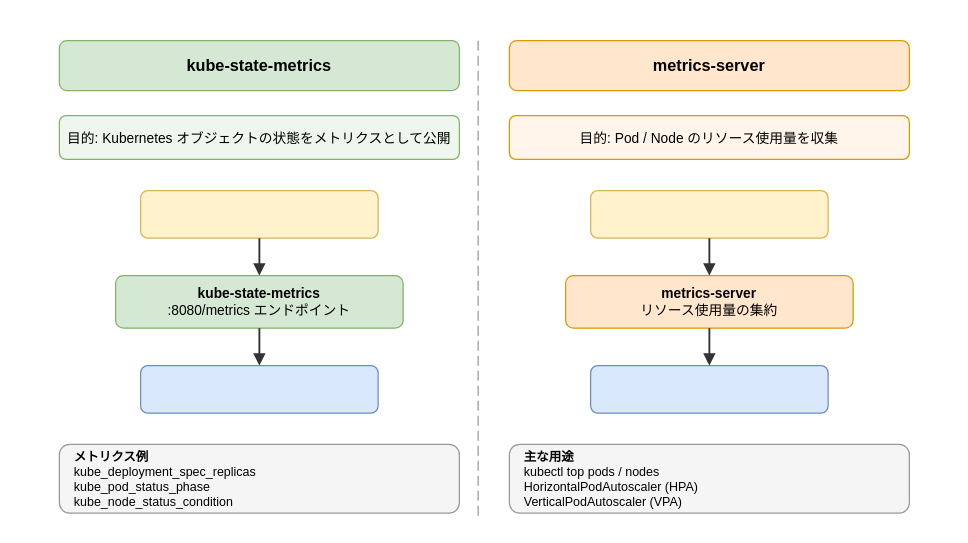
This 968x543 diagram has some shape labels left out. The centre of each missing label's shape, as x and y in pixels:
"API Server" goes at (258,213).
"kubelet (cAdvisor)" goes at (708,213).
"Metrics API (kubectl top)" goes at (708,388).
"Prometheus (Scrape)" goes at (258,388).
